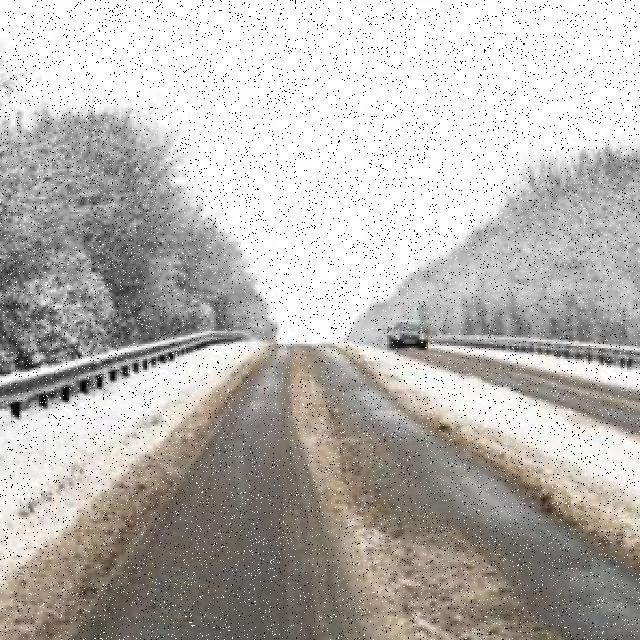ice-road: (313, 348, 640, 640), (74, 349, 381, 640)
